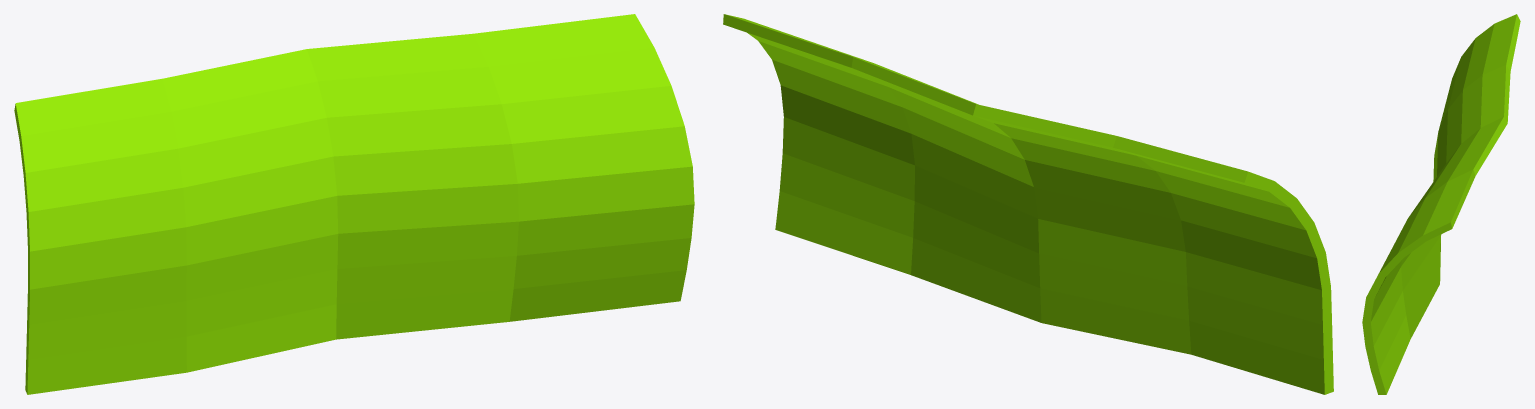
The model's file is Wall_01_Bend_04_Half.fbx.
3 views of the same model, side by side, from view 1: azimuth 30°, elevation 25°; view 2: azimuth 150°, elevation 25°; view 3: azimuth 270°, elevation 25° (orthographic). The views are drawn at different scales.
Visible parts, largest first — view 1: Wall_01_Bend_04_Half; view 2: Wall_01_Bend_04_Half; view 3: Wall_01_Bend_04_Half.
Part boxes in pixels (box(x1,y1,x2,y2)): Wall_01_Bend_04_Half: box(14, 14, 694, 394); Wall_01_Bend_04_Half: box(723, 14, 1333, 394); Wall_01_Bend_04_Half: box(1362, 14, 1520, 394).
Size of the model in its own units: 1310 by 543 by 418.
